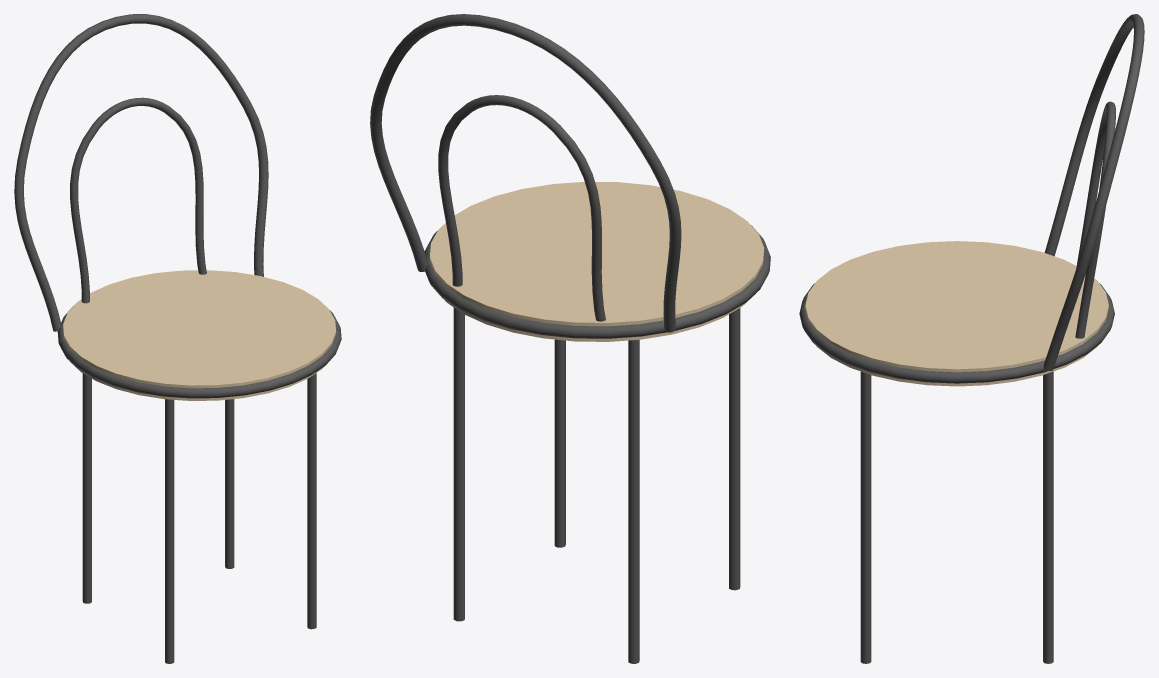
The model's file is bistro_chair.glb.
The picture shows the model from 3 angles, left to right: view 1: azimuth 30°, elevation 25°; view 2: azimuth 150°, elevation 25°; view 3: azimuth 270°, elevation 25°; orthographic projection. The views are drawn at different scales.
Visible parts, largest first — view 1: seat, back, back2, seatring, leg.002, leg.003, leg.001, leg; view 2: seat, back, back2, seatring, leg.001, leg, leg.002, leg.003; view 3: seat, back, seatring, leg.003, leg, back2.
Part boxes in pixels (x1,y1,x2,y2): seat: (63, 270, 336, 400); back: (14, 14, 268, 331); back2: (70, 97, 206, 303); seatring: (57, 306, 341, 398); leg.002: (165, 399, 174, 663); leg.003: (307, 373, 316, 629); leg.001: (82, 373, 91, 603); leg: (225, 399, 234, 568); seat: (430, 182, 764, 341); back: (370, 14, 681, 332); back2: (438, 95, 605, 321); seatring: (424, 225, 770, 338); leg.001: (628, 339, 639, 663); leg: (453, 307, 464, 621); leg.002: (729, 308, 740, 590); leg.003: (554, 339, 565, 547); seat: (805, 241, 1108, 386); back: (1043, 14, 1144, 370); seatring: (799, 283, 1114, 383); leg.003: (860, 371, 871, 663); leg: (1043, 371, 1053, 663); back2: (1075, 101, 1115, 338).
Size of the model in its own units: 0.4222 by 0.867 by 0.455.
